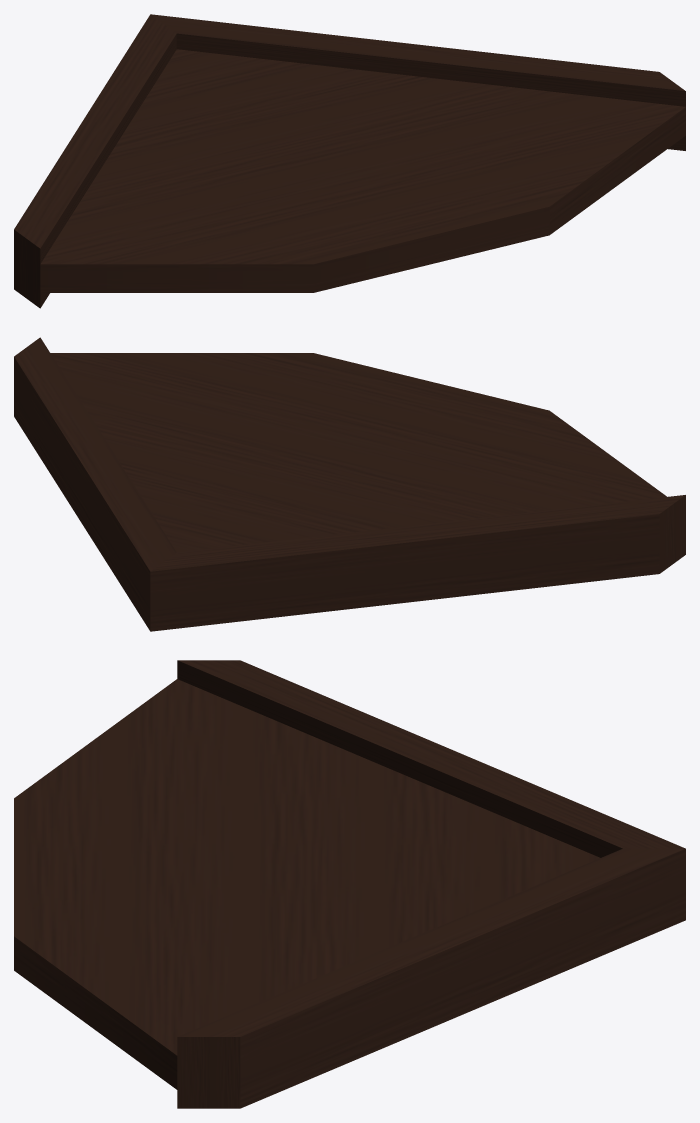
File: Corner_Shelving_B_02.FBX
The picture shows the model from 3 angles, top to bottom: view 1: azimuth 30°, elevation 25°; view 2: azimuth 150°, elevation 25°; view 3: azimuth 270°, elevation 25°; orthographic projection. The views are drawn at different scales.
Visible parts, largest first — view 1: Corner_Shelving_B; view 2: Corner_Shelving_B; view 3: Corner_Shelving_B.
Part boxes in pixels (x1,y1,x2,y2): Corner_Shelving_B: (14, 14, 685, 308); Corner_Shelving_B: (14, 337, 685, 631); Corner_Shelving_B: (14, 660, 685, 1108).
Bounding box in the file's own units: 141 × 12.55 × 107.
